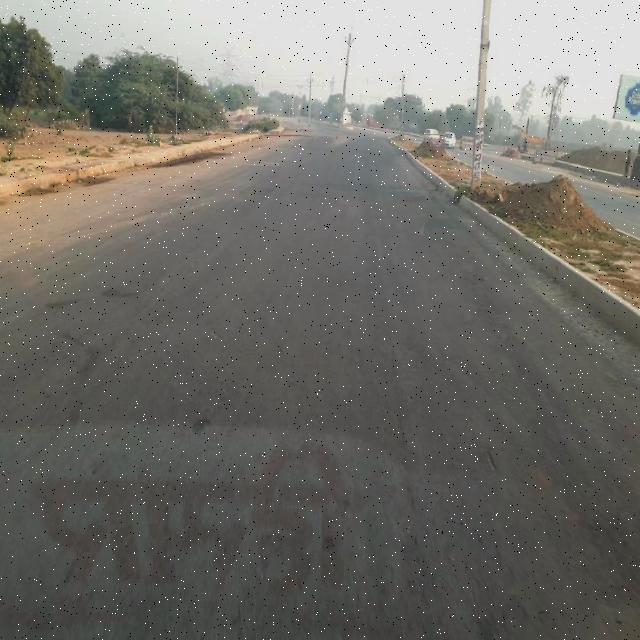D00: (481, 443, 499, 477)
